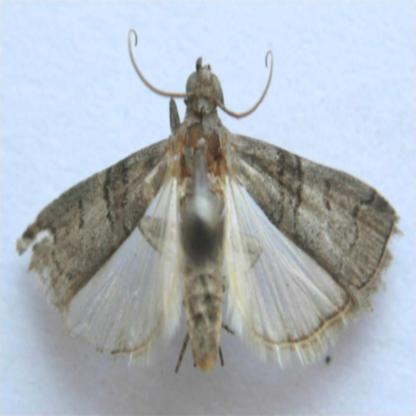Leaf Webber: (17, 59, 398, 375)
